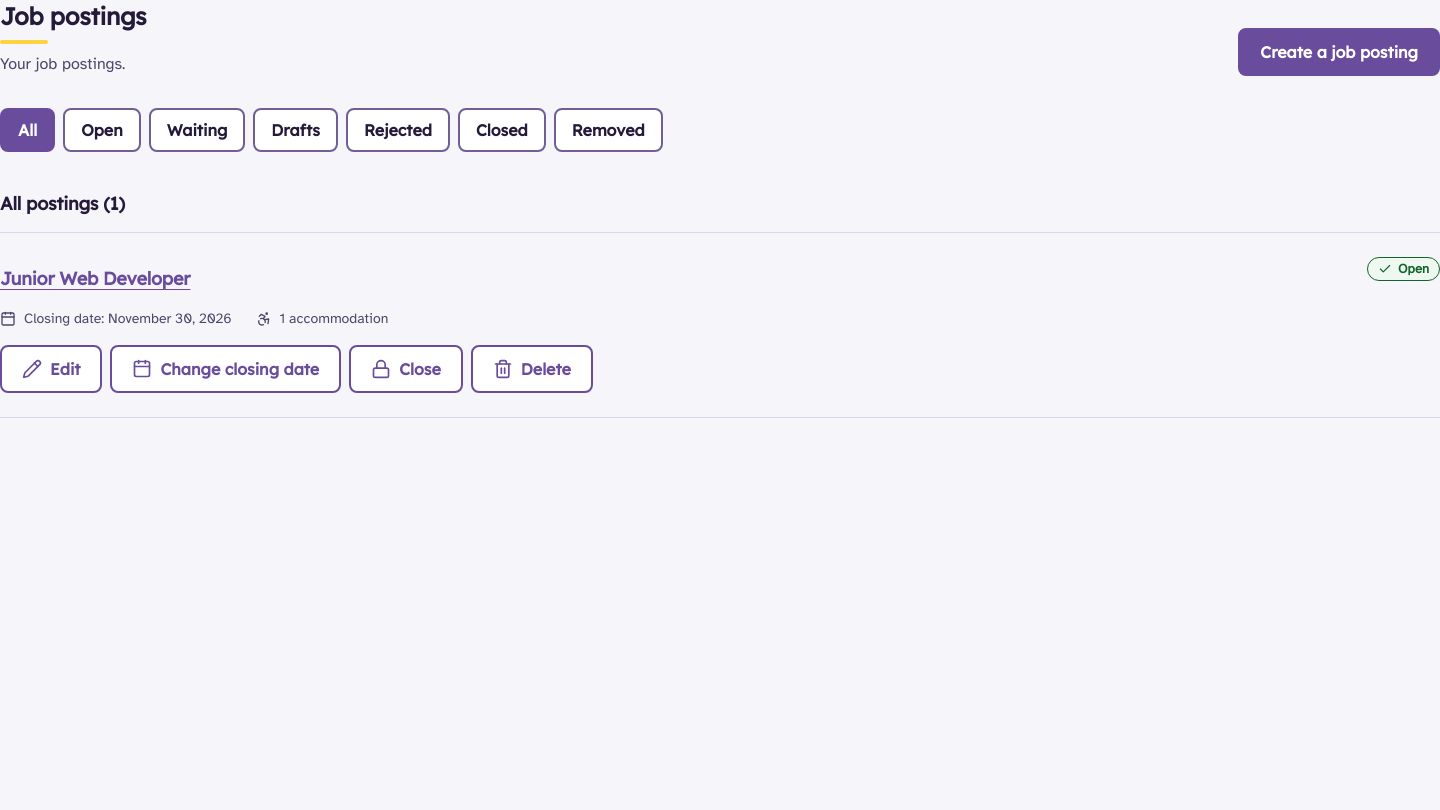
Scenario: JobPostingsPage › closes a posting after confirming, and says so
Step 1. Click the button with aria-label "Close Junior Web Developer" → (406, 369), box [349, 345, 463, 393]
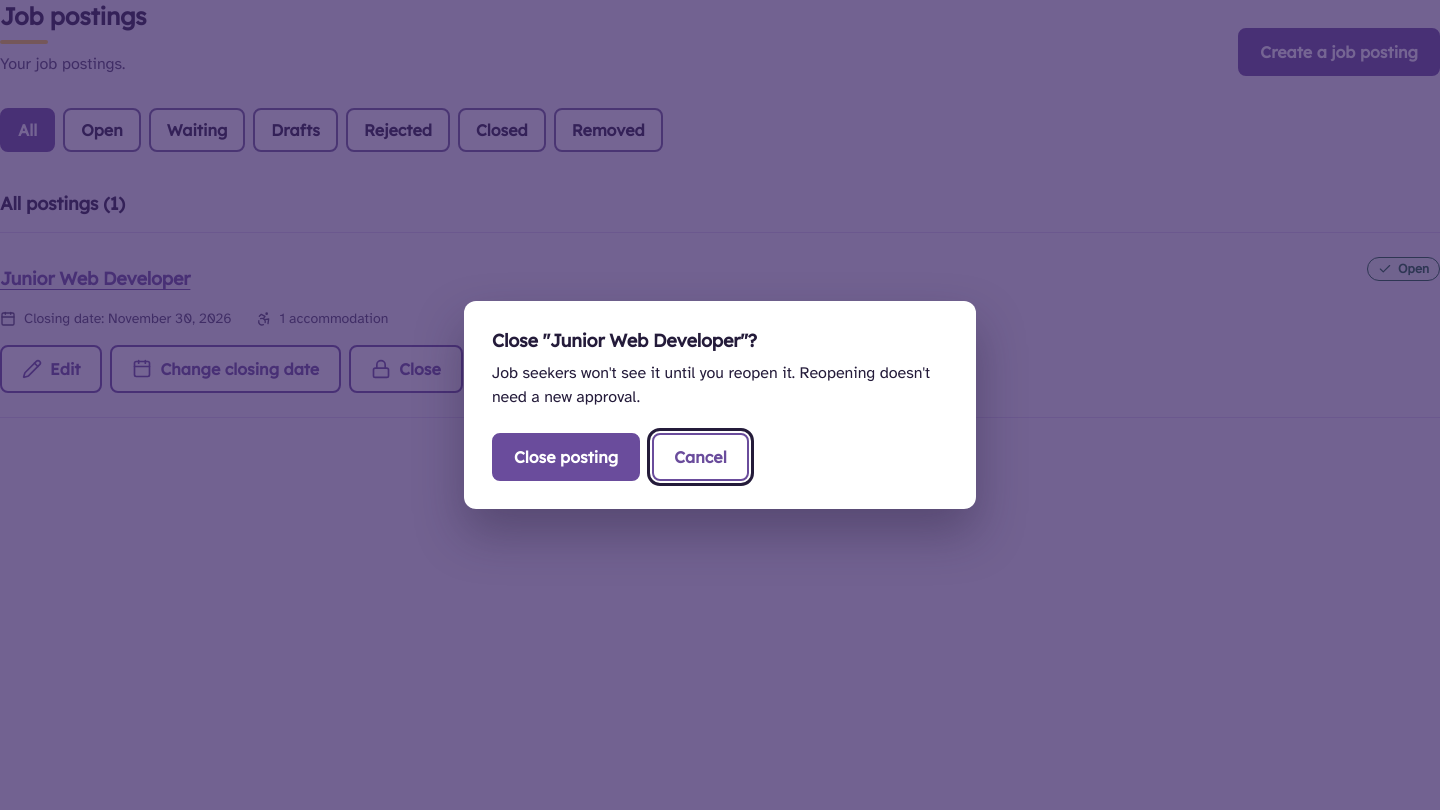
Step 2. Click the button "Close posting" → (566, 457), box [492, 433, 640, 481]
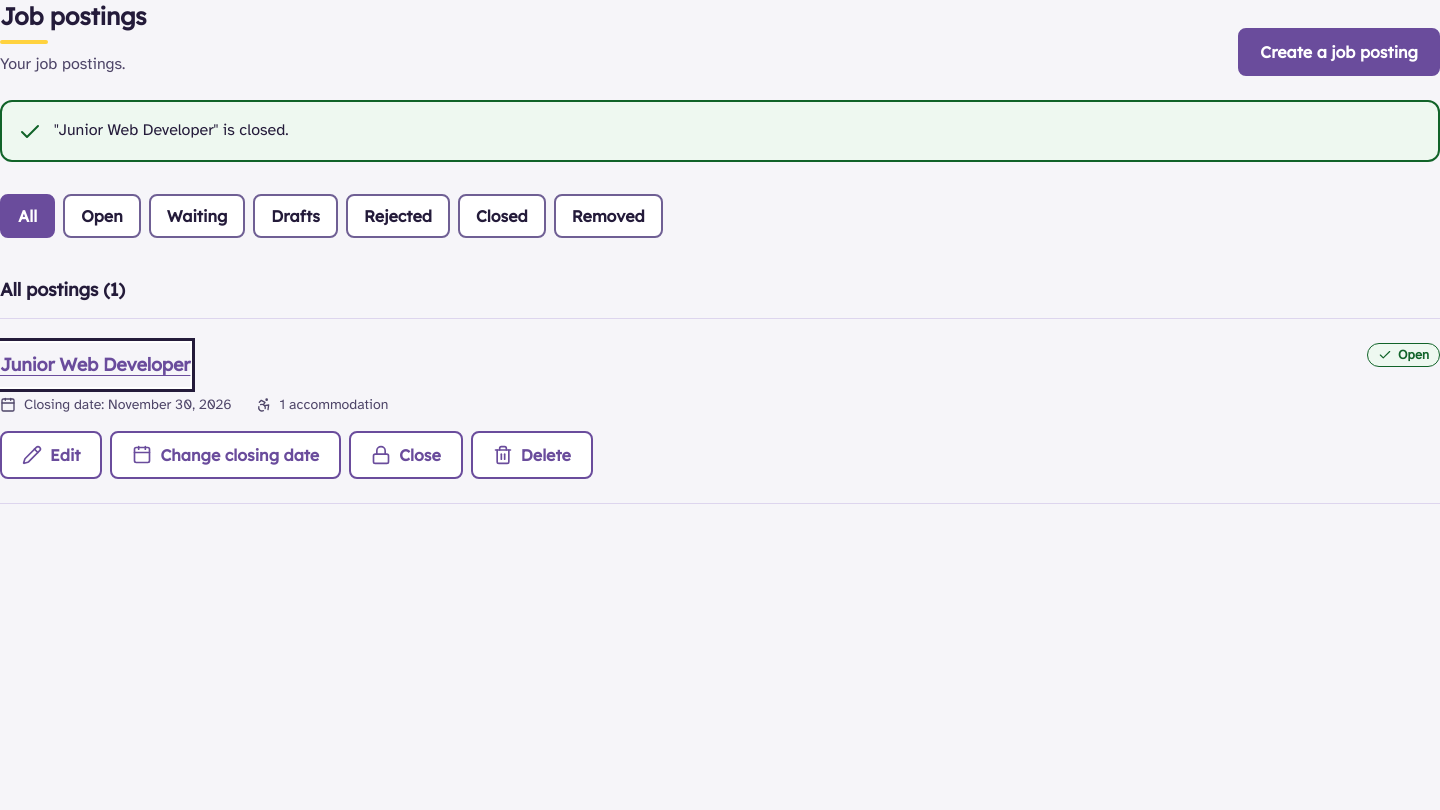
Now the text "\"Junior Web Developer\" is closed." is shown, box [54, 118, 288, 144]
